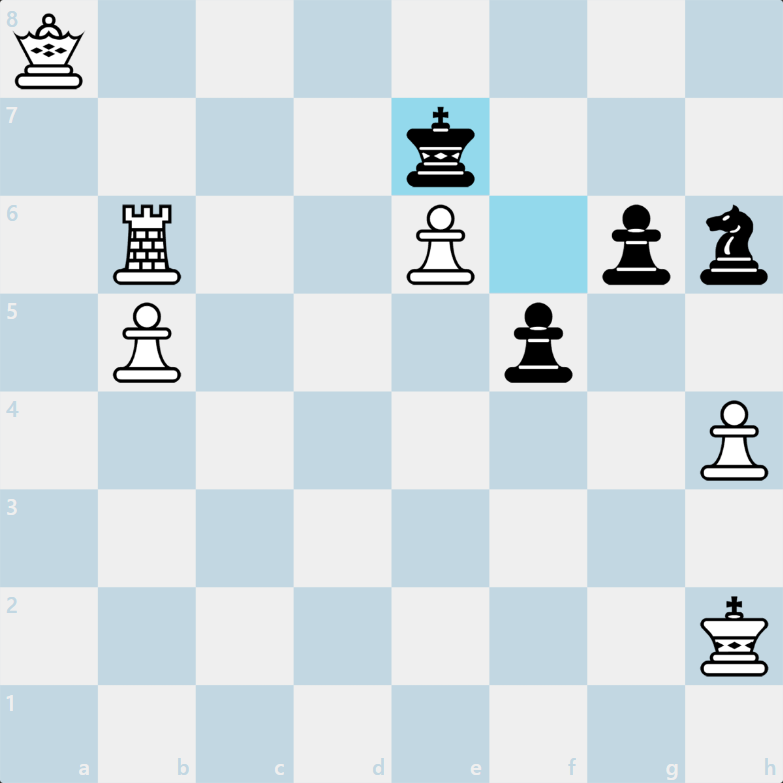K: (696, 593, 772, 681)
P: (698, 397, 771, 483), (109, 301, 182, 387), (402, 201, 475, 287)
Q: (10, 11, 87, 92)
R: (111, 201, 185, 289)
k: (403, 103, 480, 191)
n: (697, 202, 770, 288)
p: (501, 298, 575, 386), (600, 203, 674, 289)
